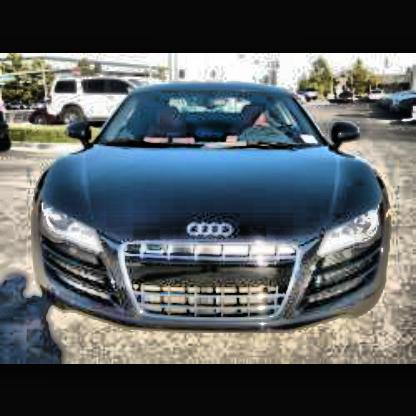Audi R8 Coupe 2012: (29, 81, 393, 335)
